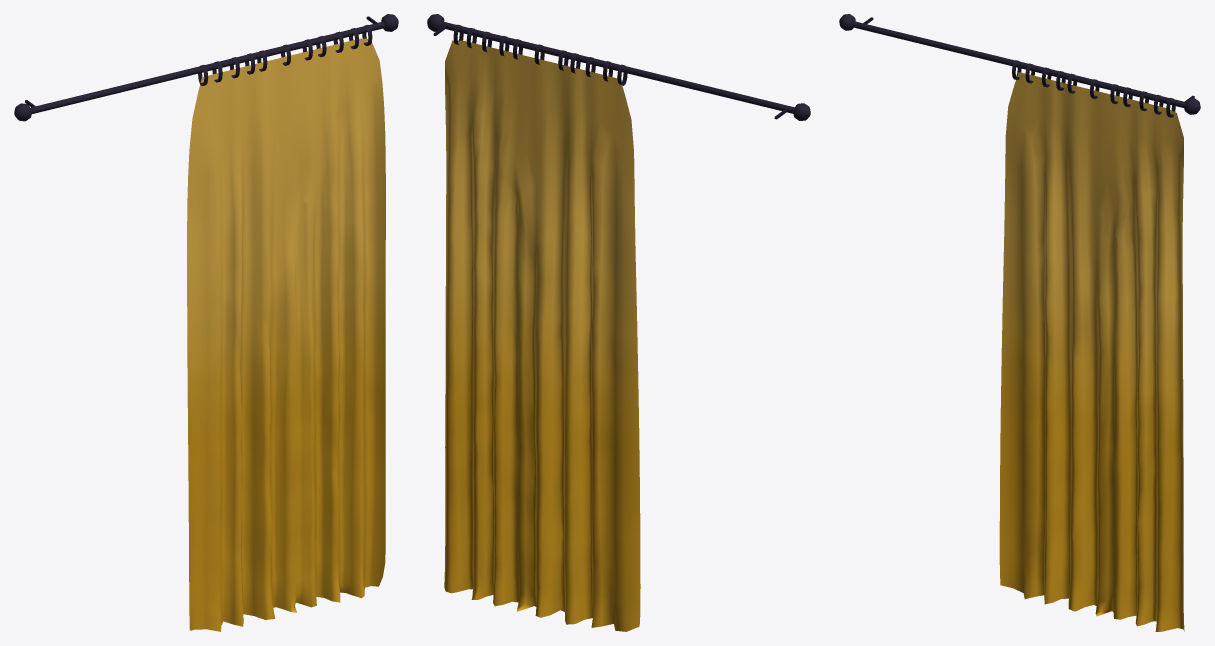
The model's file is SM_Rideau_01.fbx.
3 views of the same model, side by side, from view 1: azimuth 30°, elevation 25°; view 2: azimuth 150°, elevation 25°; view 3: azimuth 330°, elevation 25° (orthographic). The views are drawn at different scales.
Visible parts, largest first — view 1: SM_Rideau_01, pCube40; view 2: SM_Rideau_01, pCube40; view 3: SM_Rideau_01, pCube40.
Part boxes in pixels (x1,y1,x2,y2): SM_Rideau_01: (187, 38, 385, 631); pCube40: (14, 14, 398, 121); SM_Rideau_01: (444, 40, 640, 631); pCube40: (427, 14, 810, 120); SM_Rideau_01: (999, 72, 1184, 631); pCube40: (839, 14, 1200, 117).
Bounding box in the file's own units: 125 × 179 × 9.7.
